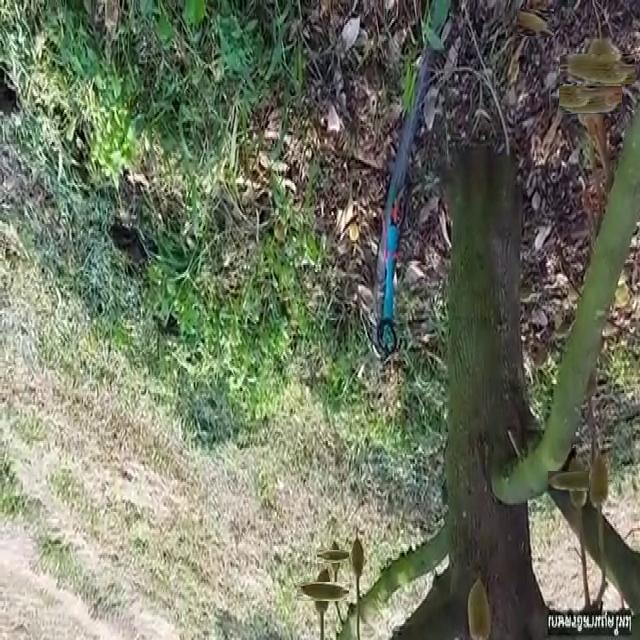durian: (570, 42, 624, 96), (567, 76, 613, 122), (465, 574, 494, 639), (558, 461, 597, 501), (304, 573, 341, 610), (589, 448, 610, 511), (519, 6, 552, 39), (349, 534, 367, 582), (323, 544, 349, 570)
